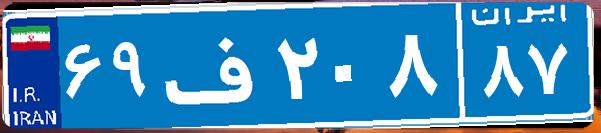0: (330, 28, 385, 110)
2: (273, 28, 330, 110)
6: (57, 26, 110, 107)
7: (525, 38, 570, 115)
8: (385, 28, 445, 110), (475, 38, 525, 113)
9: (110, 28, 158, 105)
ف: (158, 15, 273, 115)
